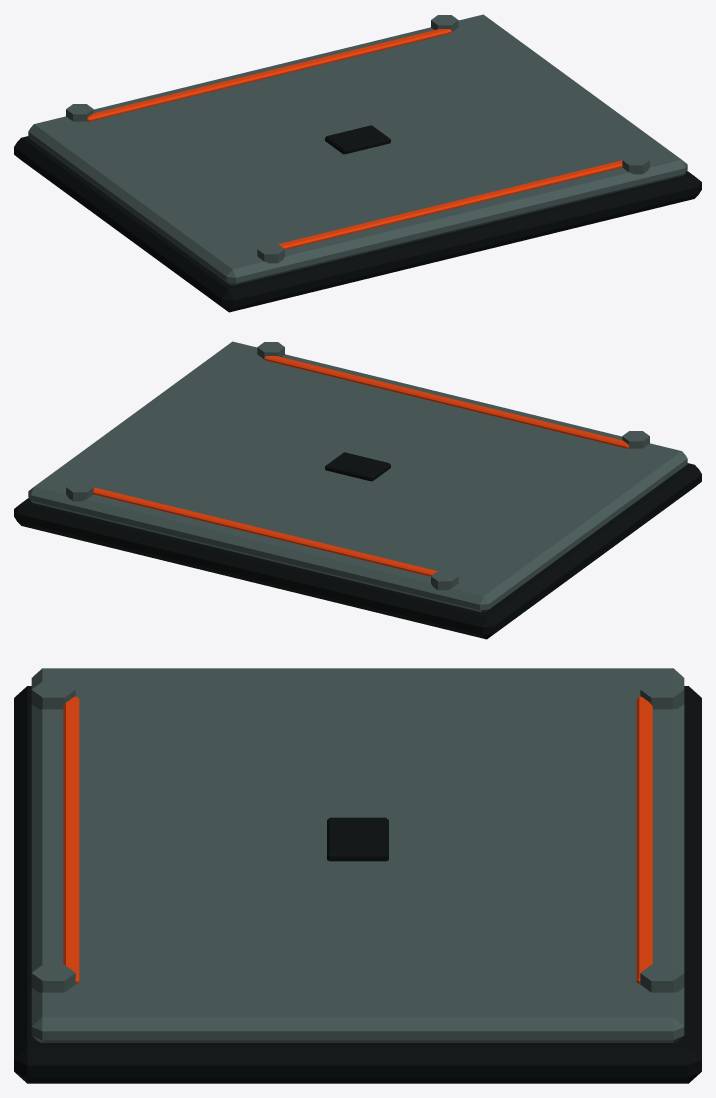
File: SM_MP_Station_TrenchTrunk.fbx
3 views of the same model, one above another, from view 1: azimuth 30°, elevation 25°; view 2: azimuth 150°, elevation 25°; view 3: azimuth 270°, elevation 25° (orthographic). The views are drawn at different scales.
Visible parts, largest first — view 1: SM_MP_Station_TrenchTrunk; view 2: SM_MP_Station_TrenchTrunk; view 3: SM_MP_Station_TrenchTrunk.
Boxes of the visible parts, x1,y1,x2,y2 form: SM_MP_Station_TrenchTrunk: [14, 14, 701, 312]; SM_MP_Station_TrenchTrunk: [14, 341, 701, 639]; SM_MP_Station_TrenchTrunk: [14, 668, 701, 1083].
Bounding box in the file's own units: 100 × 78 × 8.95.
Materials: 1 (1 with a texture image).
